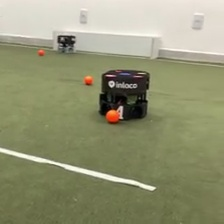ball: (103, 107, 121, 124), (83, 73, 95, 86), (37, 47, 45, 56)
goal: (49, 28, 161, 60)
robot: (97, 67, 151, 122), (56, 33, 77, 56)
